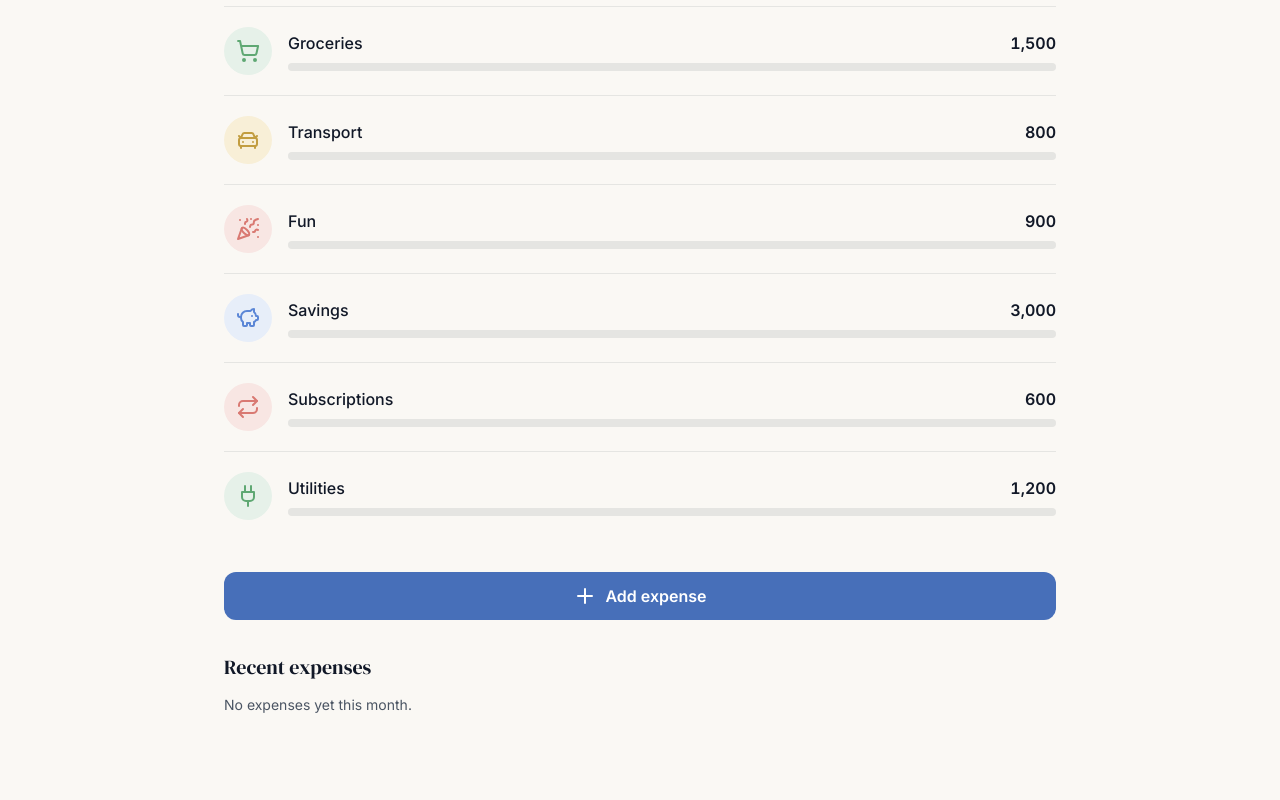
qa-add-expense › QA-CC-31: a valid save posts the parsed payload and the budget re-renders the new actual
The image size is (1280, 800).
(page scrolled)
Step 1. Click the button "Add expense" → (640, 596), box [224,572,1056,620]
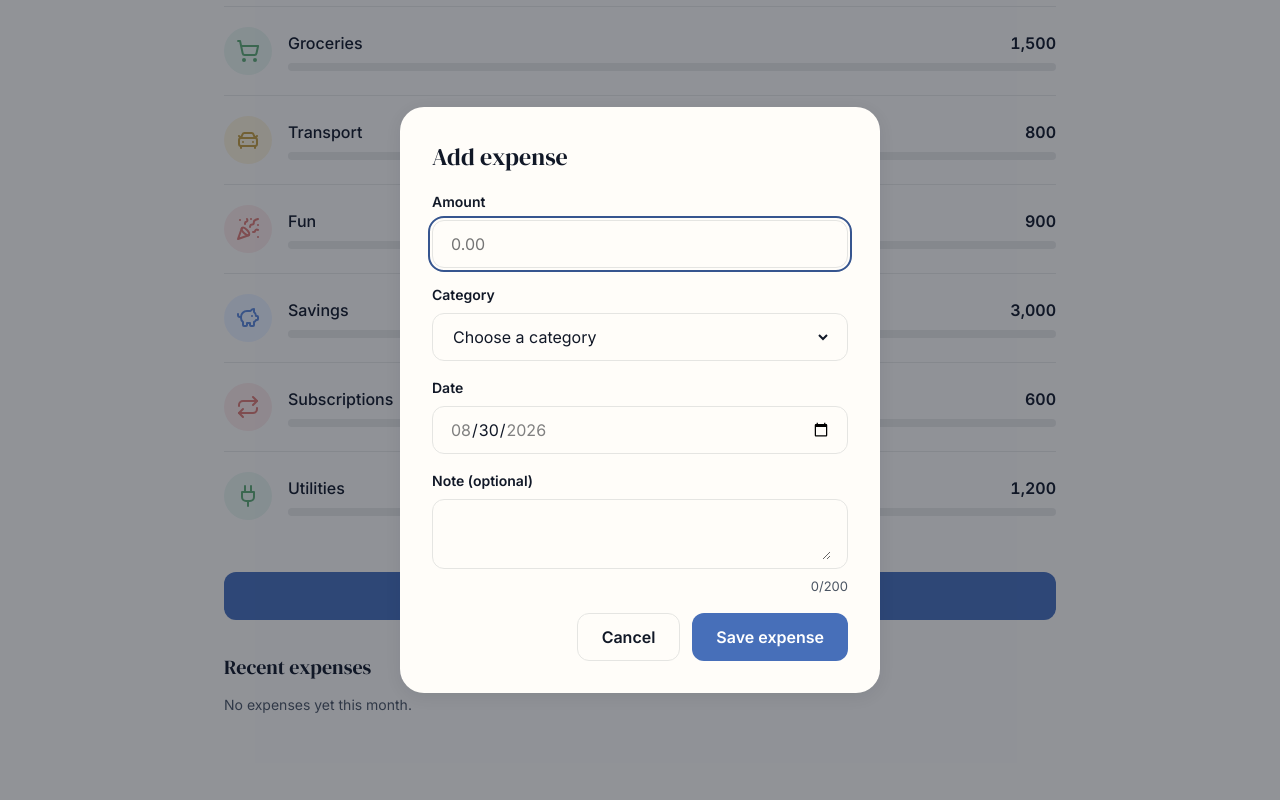
Expected: the dialog "Add expense" is shown, [400,107,880,693]
Step 2. Type "42.50" into the field labelled "Amount" → (640, 244), box [449,231,831,257]
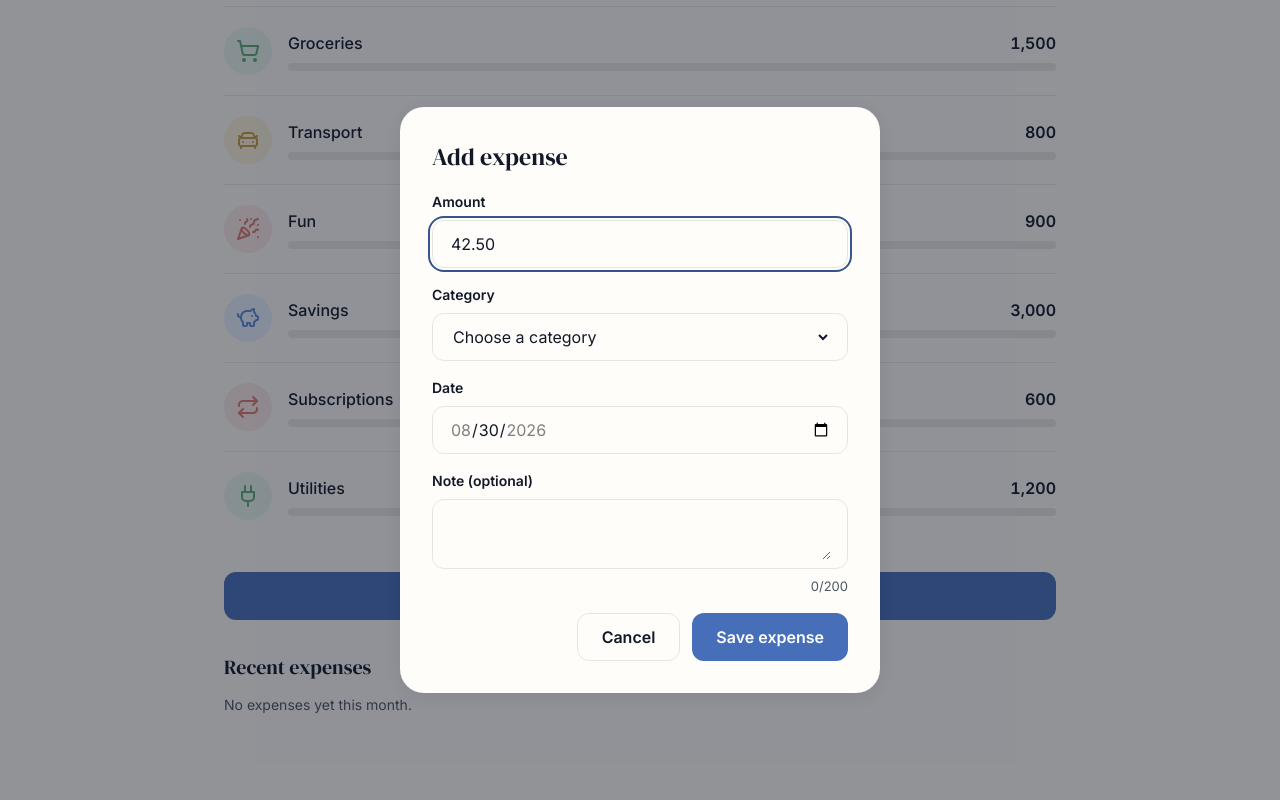
Step 3. Select "Groceries" in the dropdown labelled "Category" → (640, 337), box [449,314,831,360]
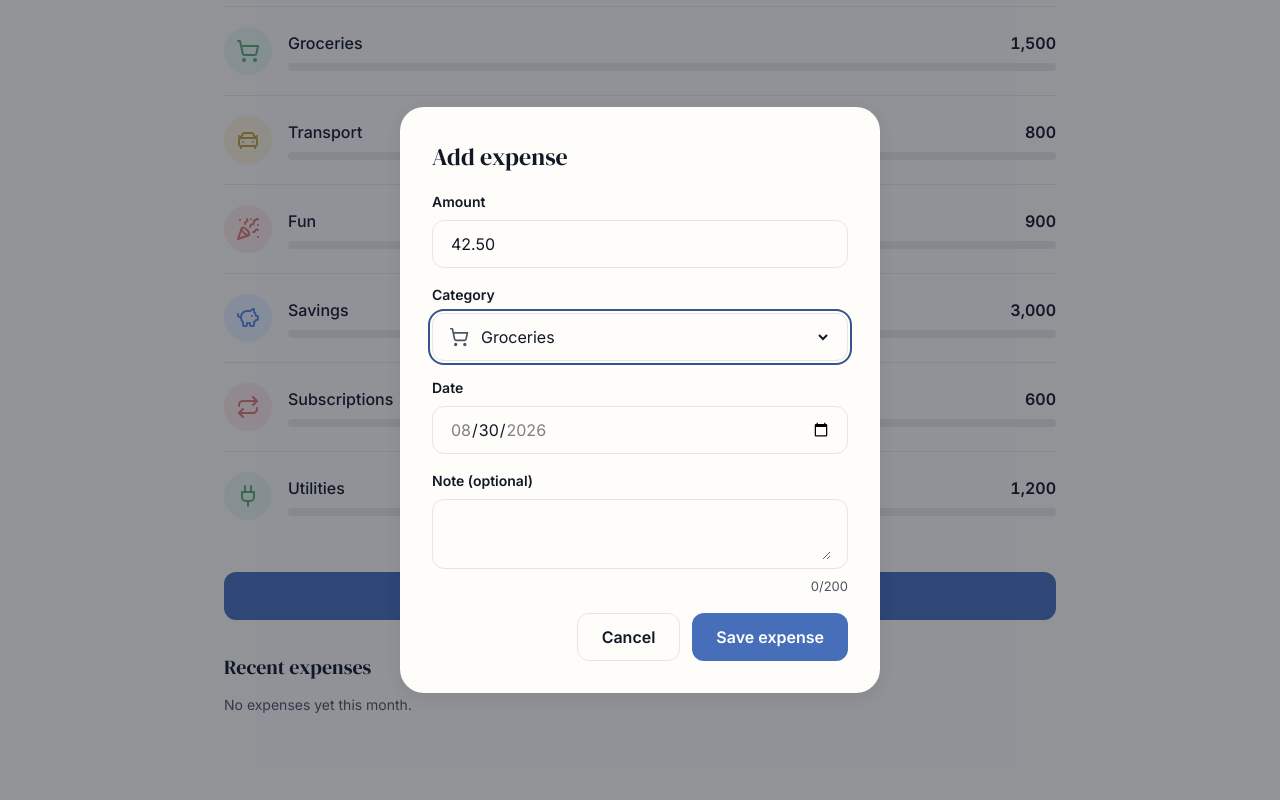
Step 4. Type "Weekly shop" into the text box labelled "Note (optional)" → (640, 534), box [449,508,831,560]
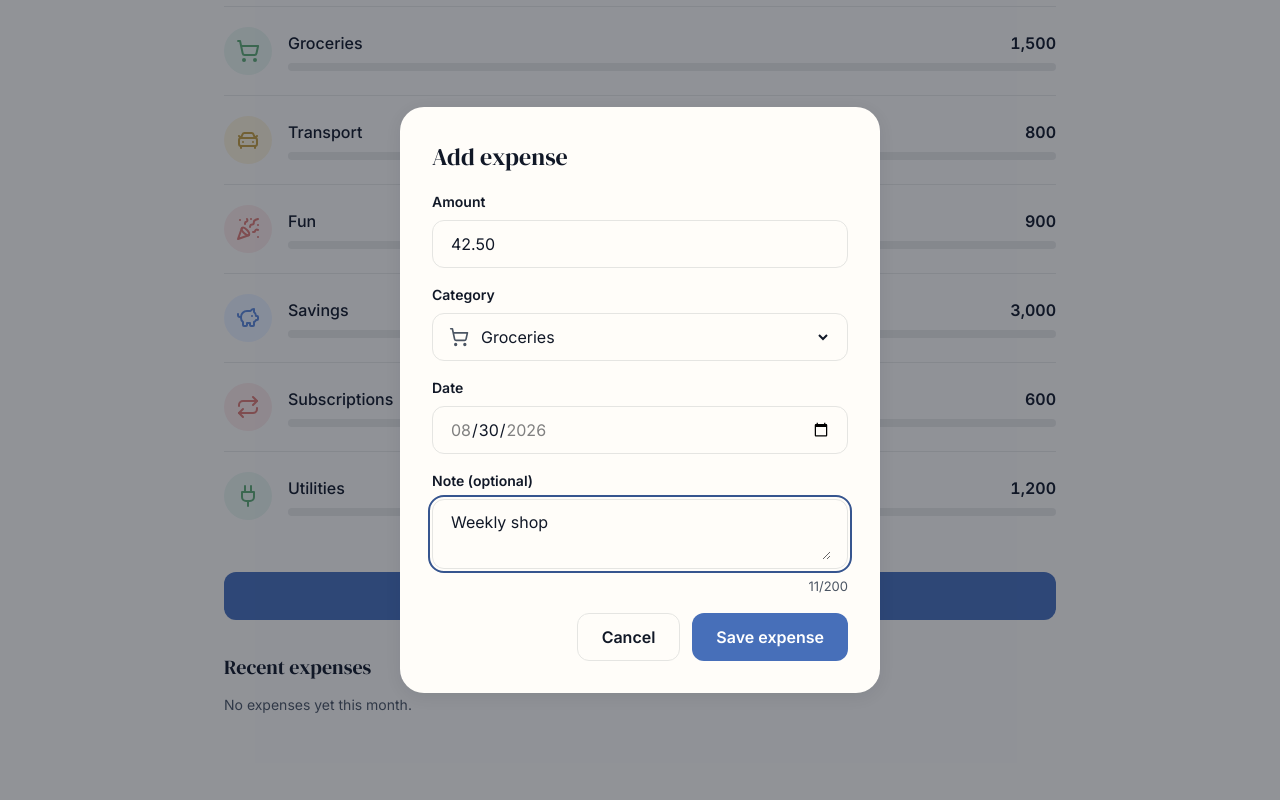
Step 5. Click the button "Save expense" → (770, 637), box [692,613,848,661]
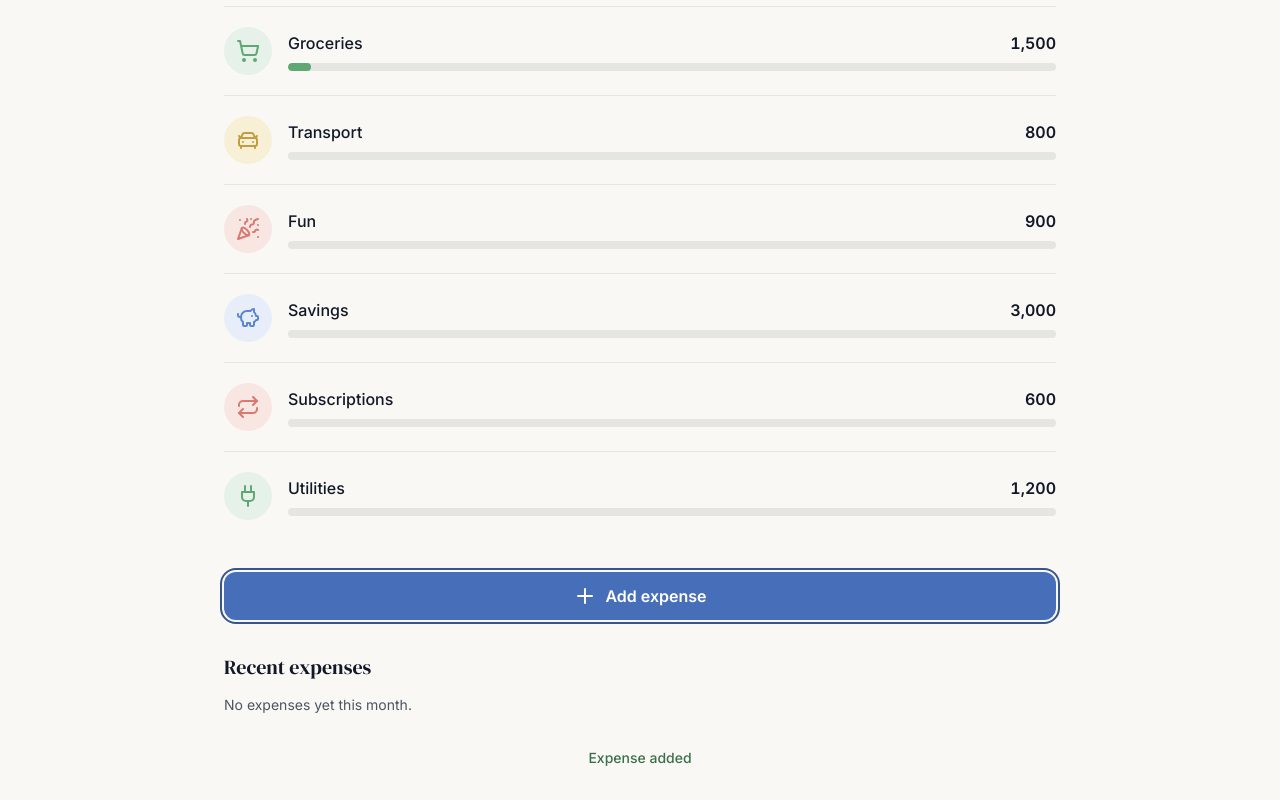
Expected: the button "Groceries 1,500" is shown, [288,23,1056,79]
Expected: the text "Expense added" is shown, [588,749,692,766]
Expected: the dialog is gone
